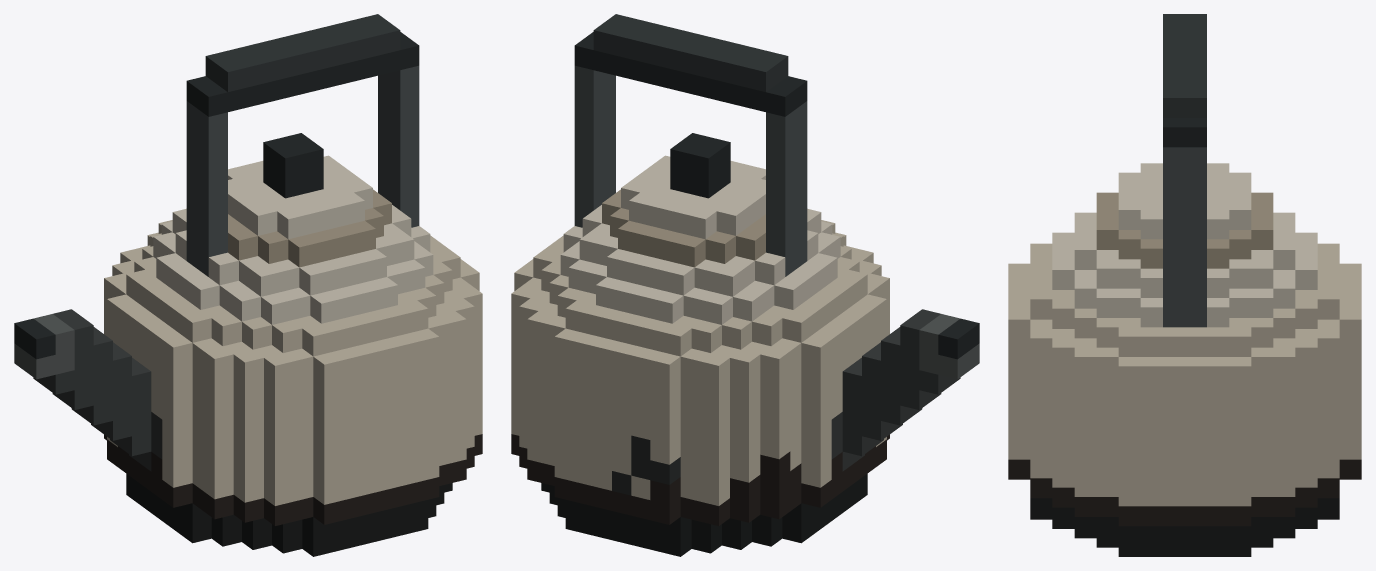
The model's file is Claude_kettle.glb.
3 renders of one model, left to right at view 1: azimuth 30°, elevation 25°; view 2: azimuth 150°, elevation 25°; view 3: azimuth 270°, elevation 25°, orthographic.
Parts seen in each view (by area): view 1: Claude_kettle; view 2: Claude_kettle; view 3: Claude_kettle.
Part boxes in pixels (box(x1,y1,x2,y2)): Claude_kettle: box(14, 14, 482, 556); Claude_kettle: box(511, 14, 979, 556); Claude_kettle: box(1008, 14, 1361, 556).
Bounding box in the file's own units: 0.275 × 0.275 × 0.2.
